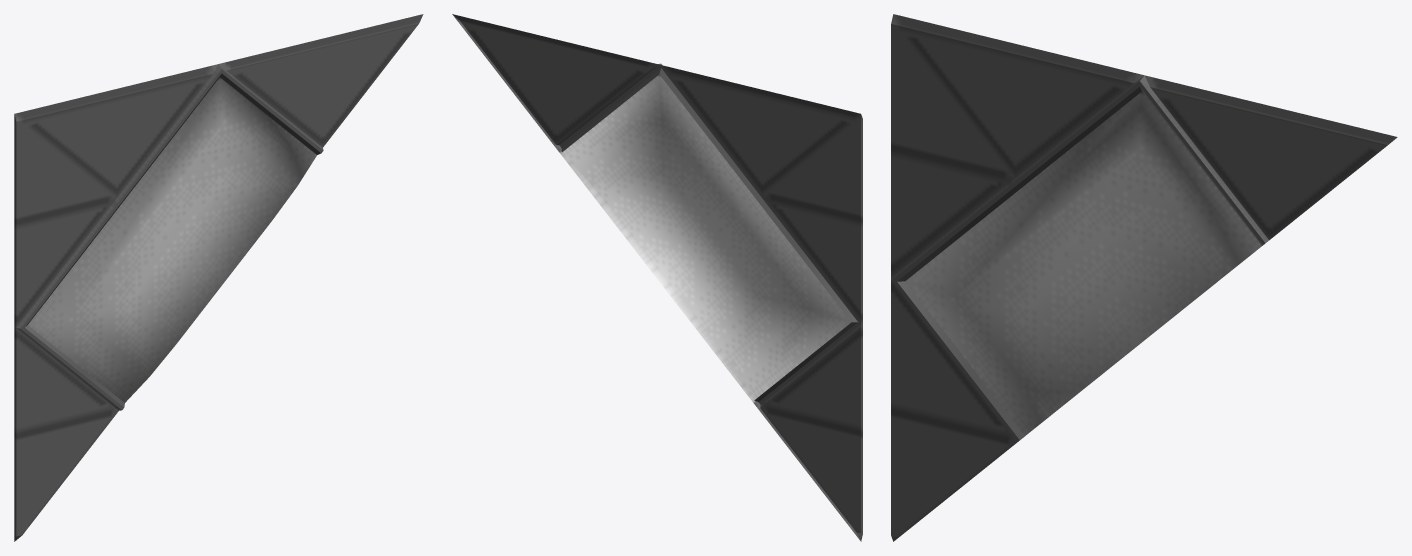
File: sec1_3_slice45.fbx
The picture shows the model from 3 angles, left to right: view 1: azimuth 30°, elevation 25°; view 2: azimuth 150°, elevation 25°; view 3: azimuth 330°, elevation 25°; orthographic projection. The views are drawn at different scales.
Parts seen in each view (by area): view 1: sec1_3_mesh; view 2: sec1_3_mesh; view 3: sec1_3_mesh.
Part boxes in pixels (x1,y1,x2,y2): sec1_3_mesh: (14,14,423,541); sec1_3_mesh: (452,14,862,541); sec1_3_mesh: (891,14,1397,541).
Size of the model in its own units: 256 by 256 by 6.
